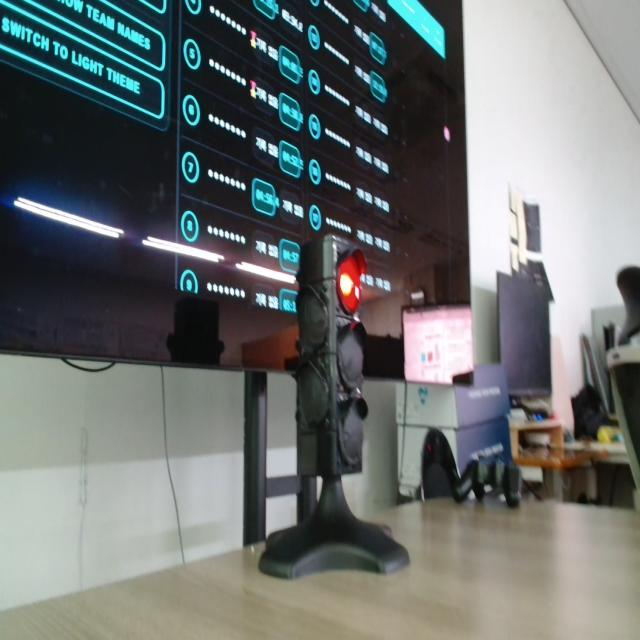red_light: (337, 251, 366, 314)
